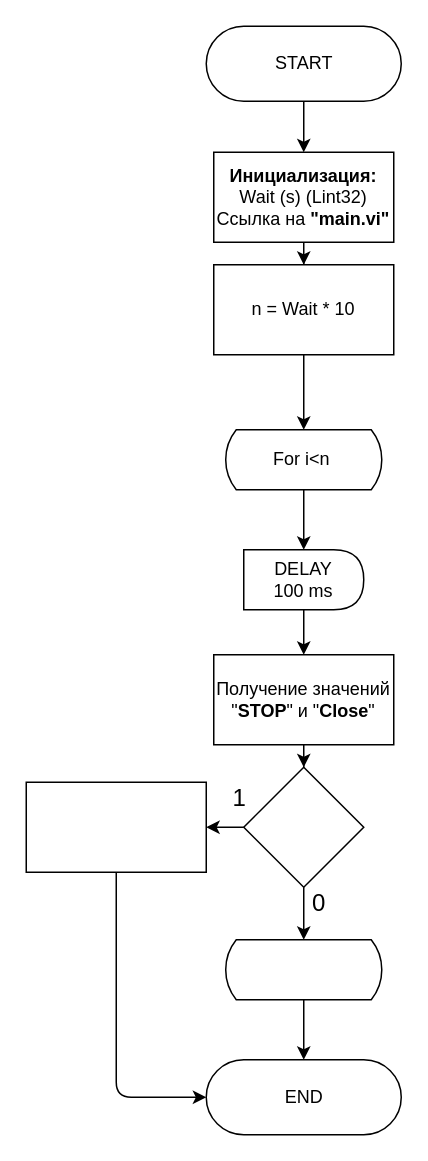
The diagram is 428 pixels wide and 1161 high, and some of its shapes have lost their labels. The centre of each missing label's shape, as x and y in pixels:
"break" goes at (115,826).
"i++" goes at (303,969).
"STOP or Close" goes at (303,826).
